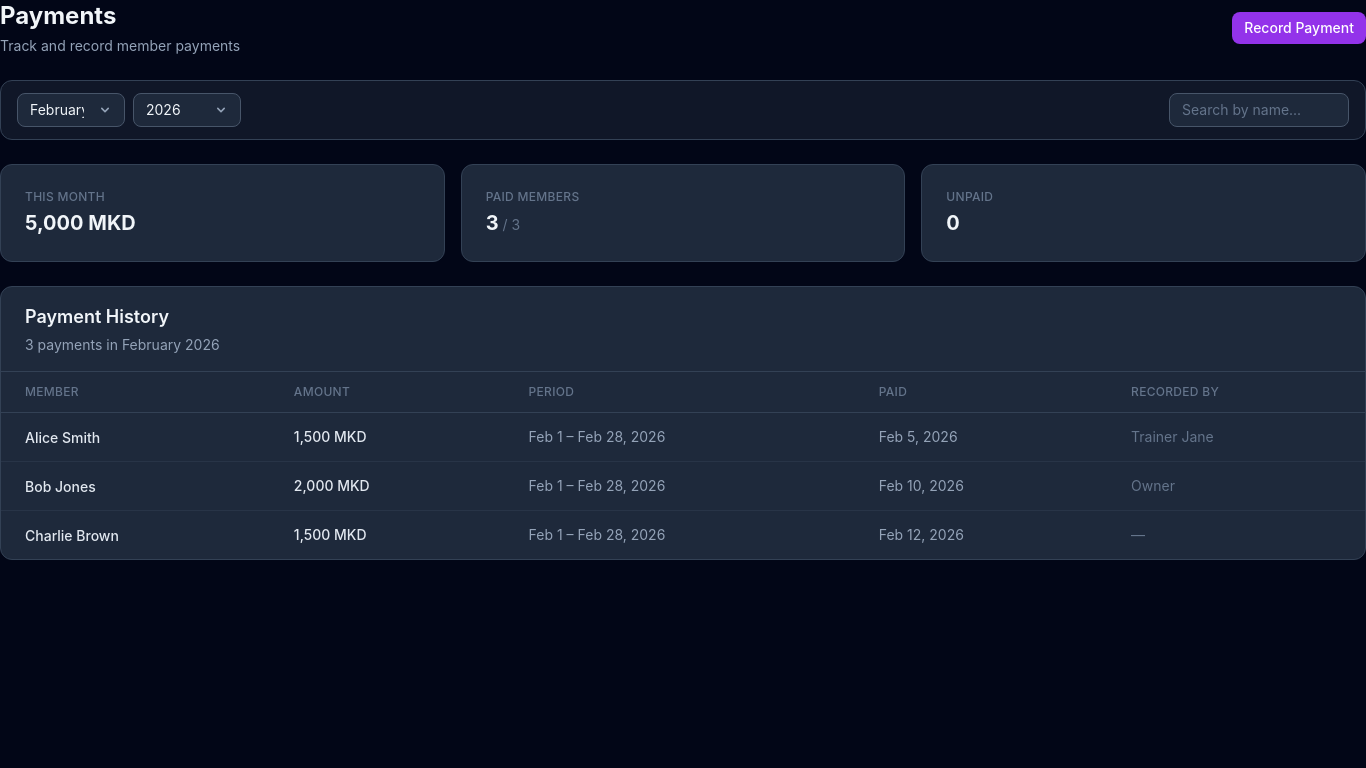
Test: TrainerPaymentsClient › Record Payment Modal › validates required fields on submit
Click the button "Record Payment": x=1299, y=28 [1232, 12, 1365, 44]
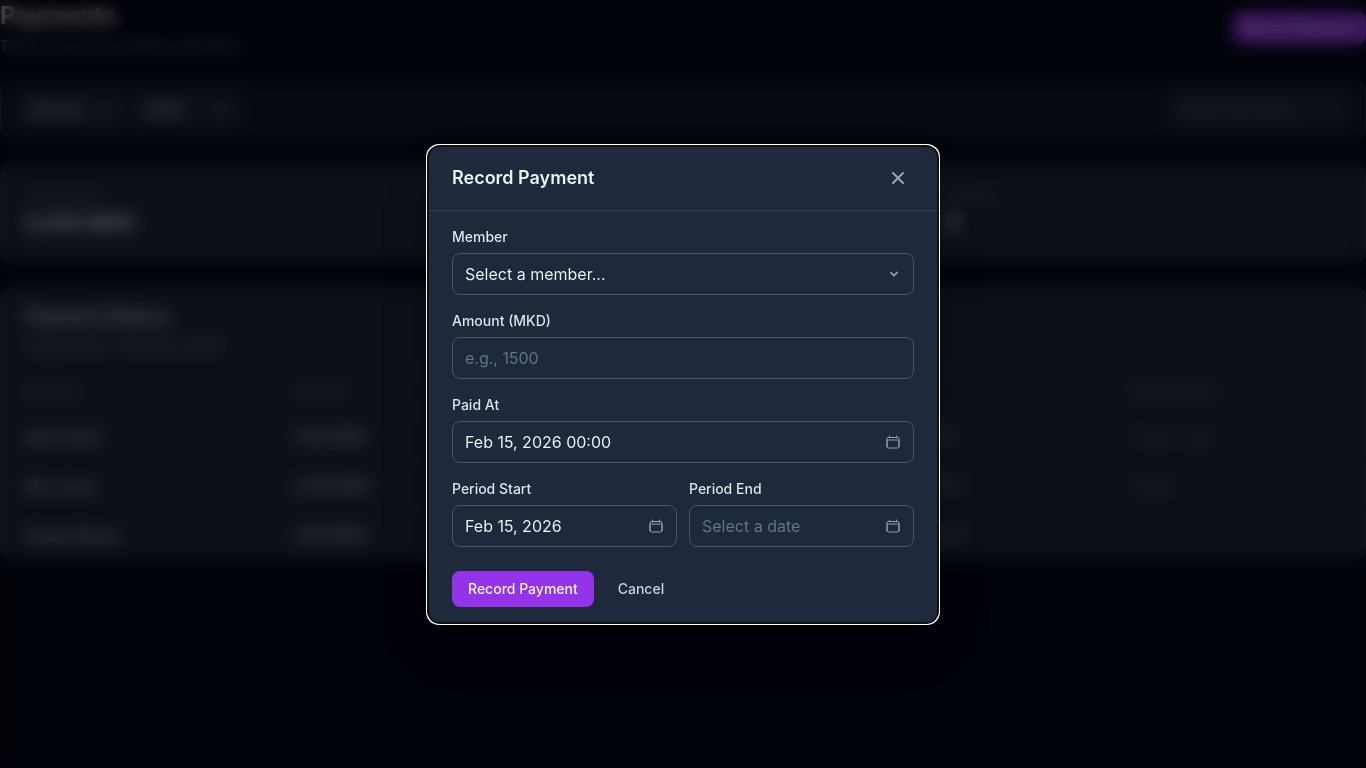
Click the submit button: x=523, y=588 [452, 570, 594, 606]
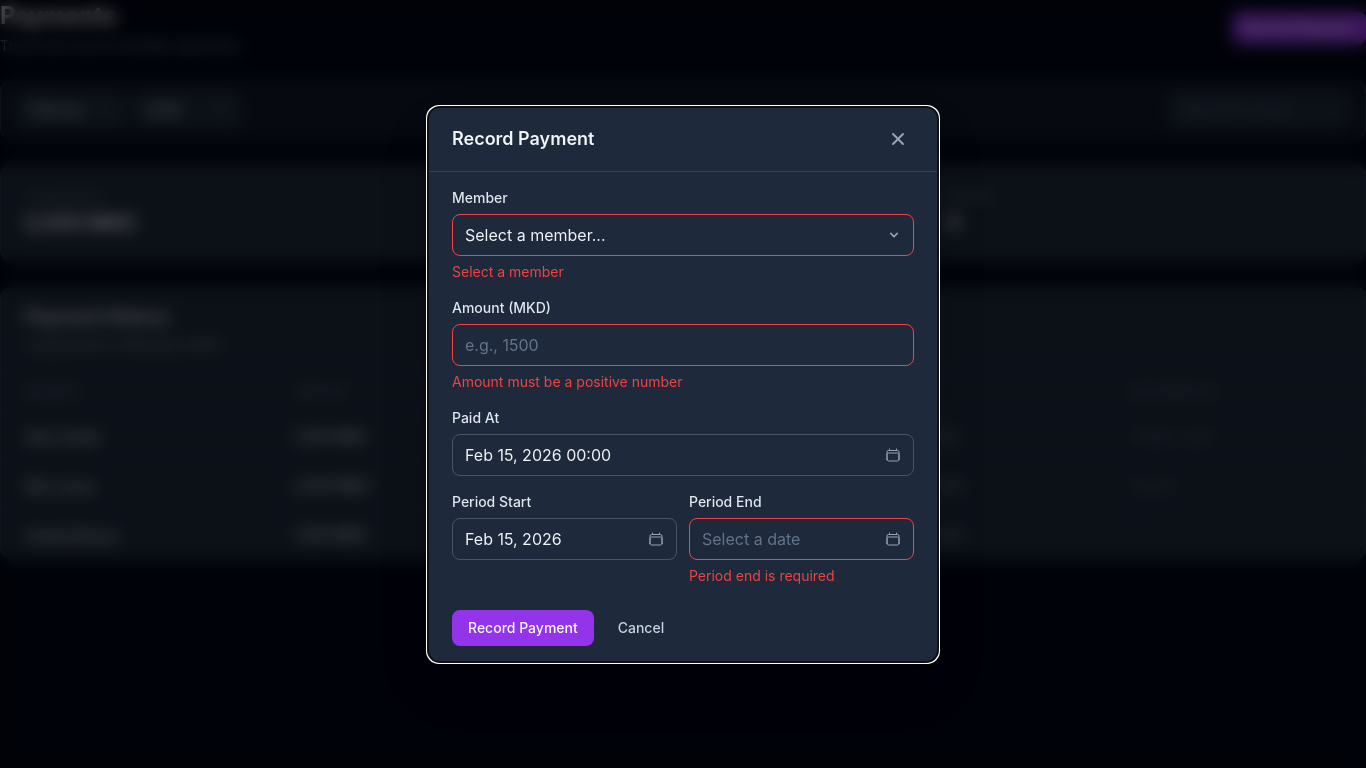
Expected: the text "Select a member" is shown, [452, 262, 564, 280]
Expected: the text "Amount must be a positive number" is shown, [452, 372, 682, 390]
Expected: the text "Period end is required" is shown, [689, 566, 835, 584]
